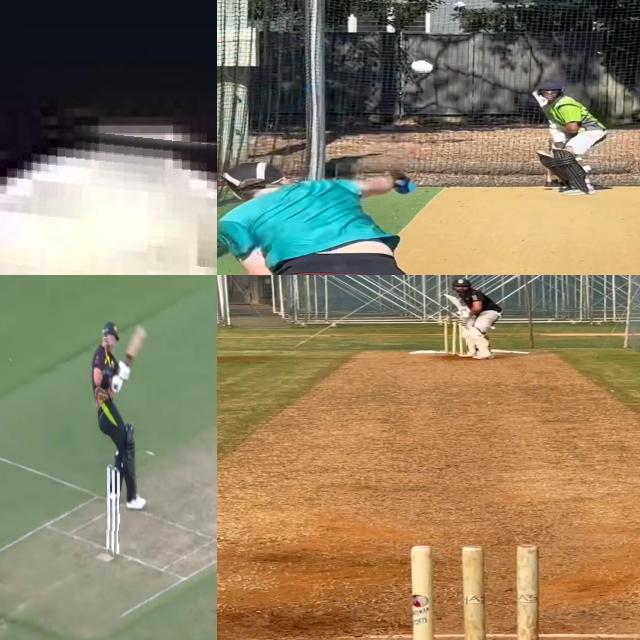Cricket ball: (0, 114, 217, 275), (410, 58, 434, 73)
Stumps: (401, 541, 550, 640), (106, 462, 122, 556), (442, 319, 467, 355)
